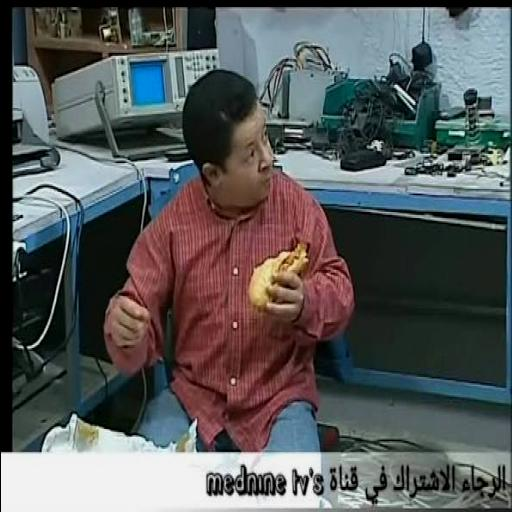fouchika: (200, 102, 271, 209)
